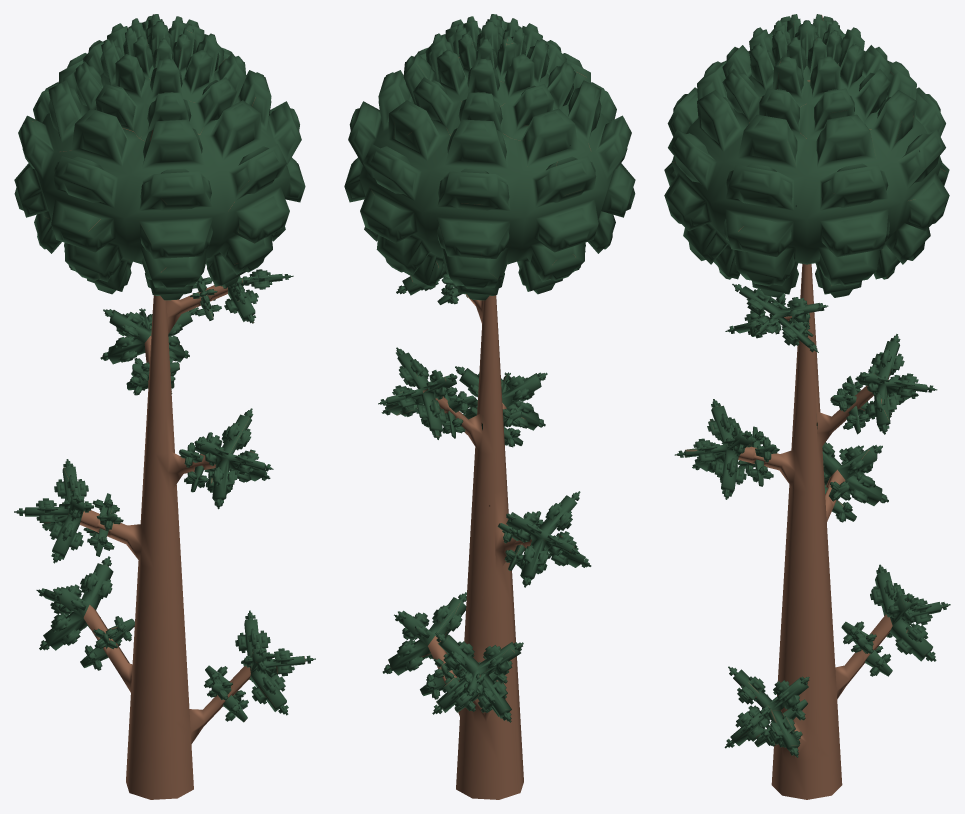
The model's file is tree3.glb.
The picture shows the model from 3 angles, left to right: view 1: azimuth 30°, elevation 25°; view 2: azimuth 150°, elevation 25°; view 3: azimuth 270°, elevation 25°; orthographic projection.
Visible parts, largest first — view 1: Cylinder; view 2: Cylinder; view 3: Cylinder.
Boxes of the visible parts, x1,y1,x2,y2 form: Cylinder: [14, 14, 315, 799]; Cylinder: [344, 14, 635, 799]; Cylinder: [664, 14, 950, 799].
Bounding box in the file's own units: 1.52 × 4.45 × 1.51.
Materials: 1 (1 with a texture image).
